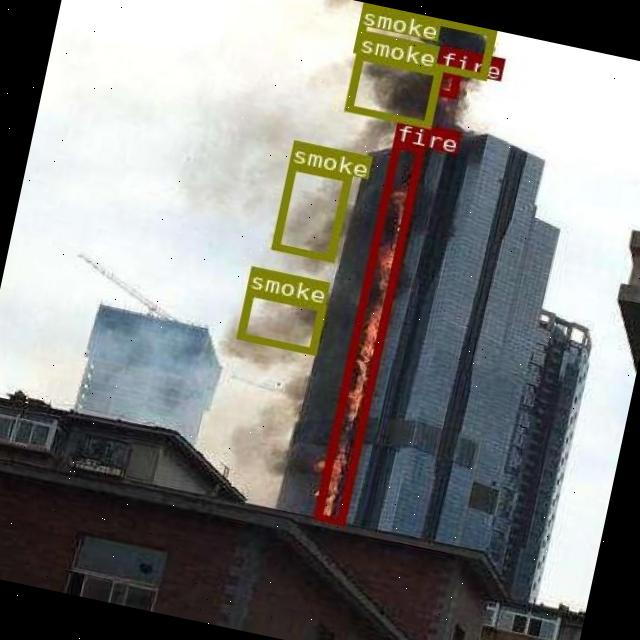fire: (312, 139, 422, 524), (430, 67, 460, 97)
smoke: (353, 2, 495, 79), (270, 162, 351, 260), (344, 51, 441, 128), (236, 286, 324, 352)
